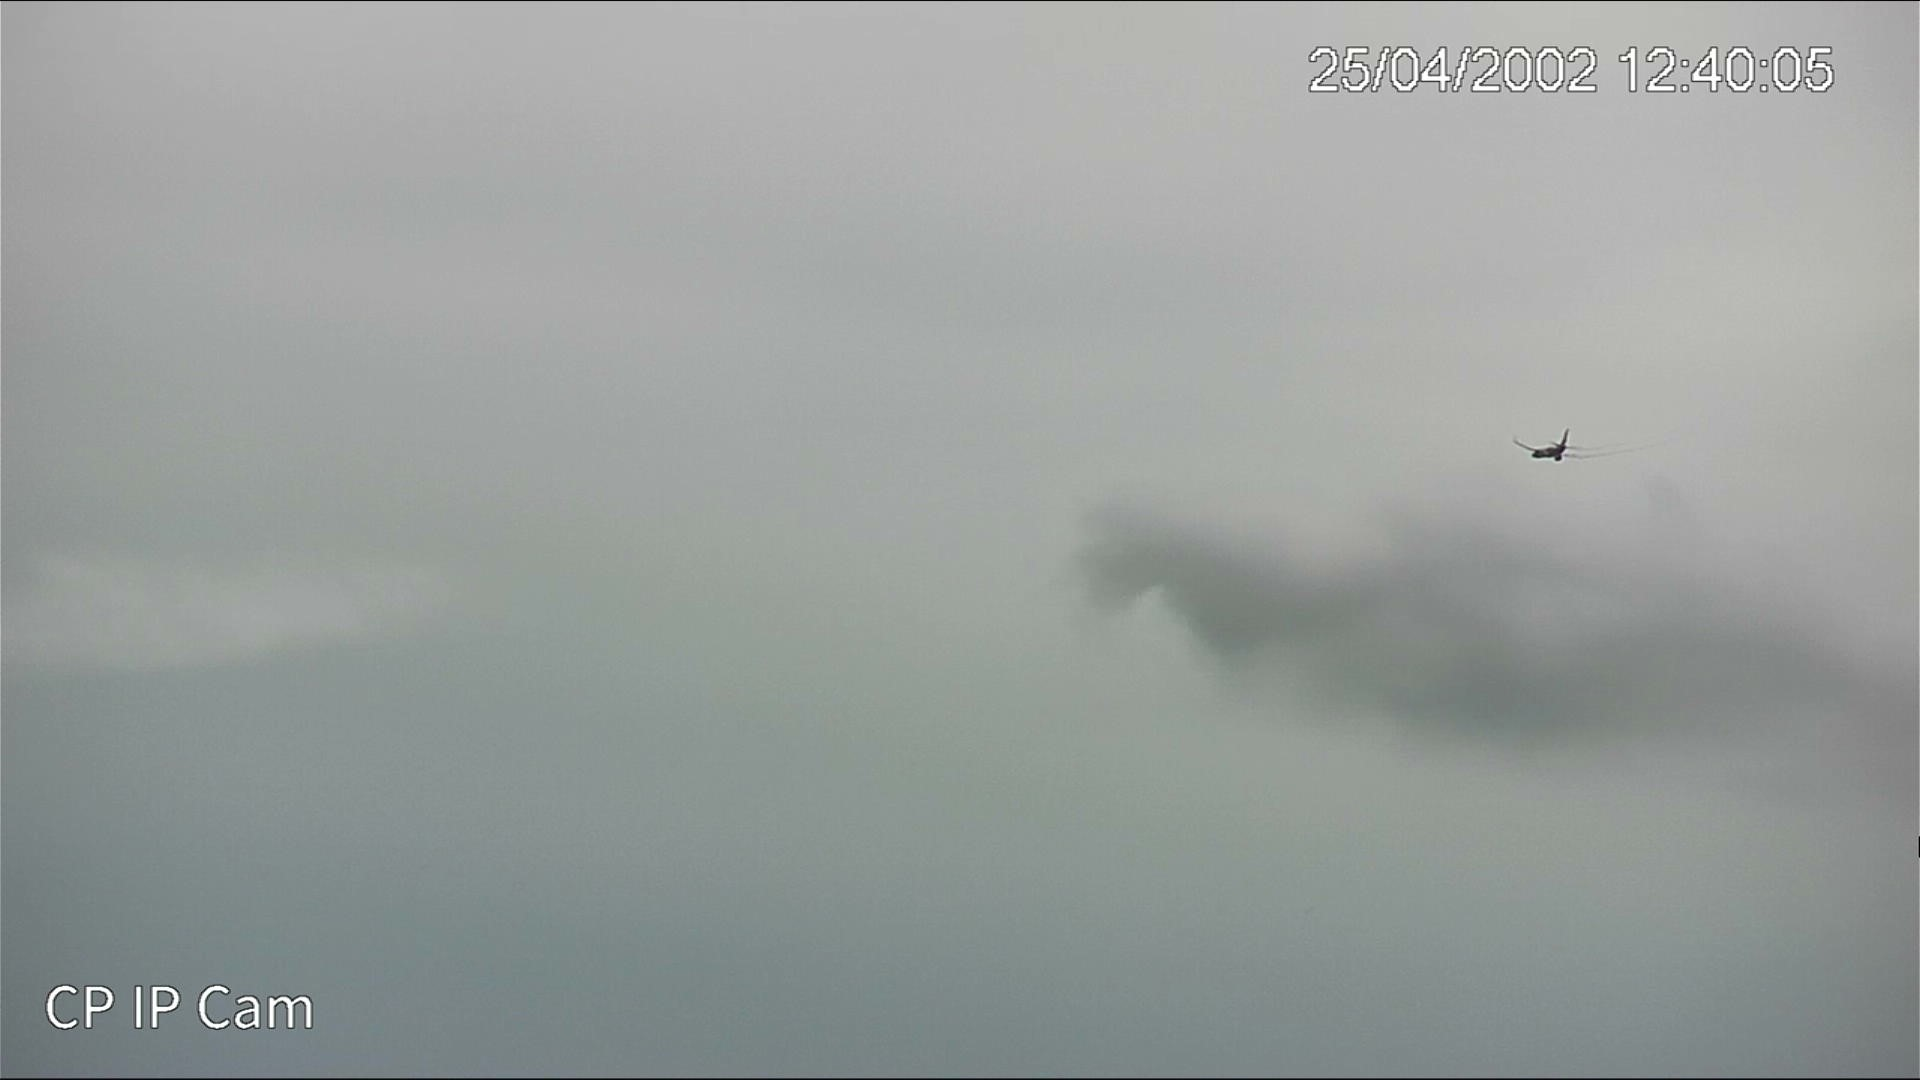SU_30: (1511, 429, 1576, 460)
